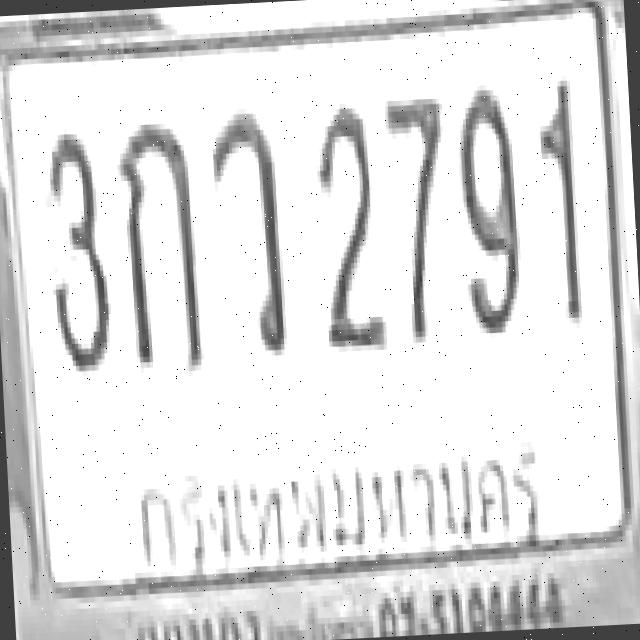1: (534, 74, 583, 330)
10GorGai: (115, 116, 202, 374)
2: (310, 99, 384, 350)
3: (41, 130, 112, 376)
46WorWaen: (208, 104, 288, 361)
7: (382, 92, 453, 344)
9: (452, 83, 524, 340)
Bangkok: (124, 420, 554, 580)
